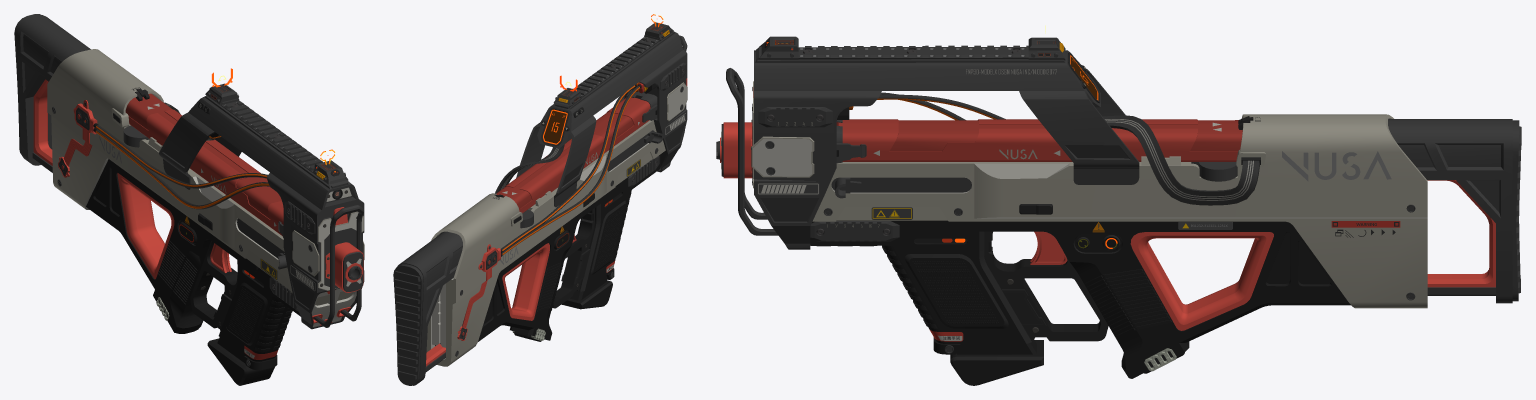
The model's file is gun.glb.
3 renders of one model, left to right at view 1: azimuth 30°, elevation 25°; view 2: azimuth 150°, elevation 25°; view 3: azimuth 270°, elevation 25°, orthographic. The views are drawn at different scales.
Visible parts, largest first — view 1: Cube.001, Plane, Cube.006, Cube.009, Cube.004, Cube.017, Cube, Cube.013, Cube.058, Plane.012, Cube.126, Plane.004 (+23 smaller); view 2: Cube.001, Plane, Cube.009, Cube.006, Cube.004, Cube.017, Cube.016, Cube.026, Cube, Cube.013, Cube.058, Plane.012 (+18 smaller); view 3: Cube.001, Plane, Cube.006, Cube.009, Cube.004, Cube, Cube.017, Cube.058, Cube.013, Cube.059, Cube.126, Plane.093 (+19 smaller).
Boxes of the visible parts, x1,y1,x2,y2 form: Cube.001: (47, 49, 292, 293); Plane: (159, 97, 364, 329); Cube.006: (86, 159, 258, 333); Cube.009: (125, 93, 283, 235); Cube.004: (16, 15, 90, 165); Cube.017: (117, 173, 174, 279); Cube: (218, 260, 300, 370); Cube.013: (190, 241, 237, 330); Cube.058: (226, 282, 267, 345); Plane.012: (220, 98, 322, 170); Cube.126: (157, 241, 197, 305); Plane.004: (313, 205, 364, 327); Cube.001: (426, 120, 665, 366); Plane: (516, 32, 687, 207); Cube.009: (496, 97, 650, 213); Cube.006: (478, 183, 620, 341); Cube.004: (397, 231, 462, 385); Cube.017: (502, 243, 549, 320); Cube.016: (393, 264, 423, 385); Cube.026: (394, 271, 420, 379); Cube: (576, 154, 660, 291); Cube.013: (552, 208, 594, 308); Cube.058: (591, 200, 626, 274); Plane.012: (556, 35, 659, 104); Cube.001: (812, 114, 1427, 308); Plane: (754, 50, 1139, 249); Cube.006: (927, 220, 1350, 378); Cube.009: (836, 119, 1242, 161); Cube.004: (1388, 119, 1512, 303); Cube: (810, 220, 1031, 354); Cube.017: (1130, 232, 1273, 330); Cube.058: (905, 254, 1008, 328); Cube.013: (984, 231, 1108, 341); Cube.059: (1102, 115, 1259, 205); Cube.126: (1085, 269, 1171, 338); Plane.093: (751, 120, 814, 177).
Size of the model in its own units: 0.5945 by 2.38 by 4.84.
